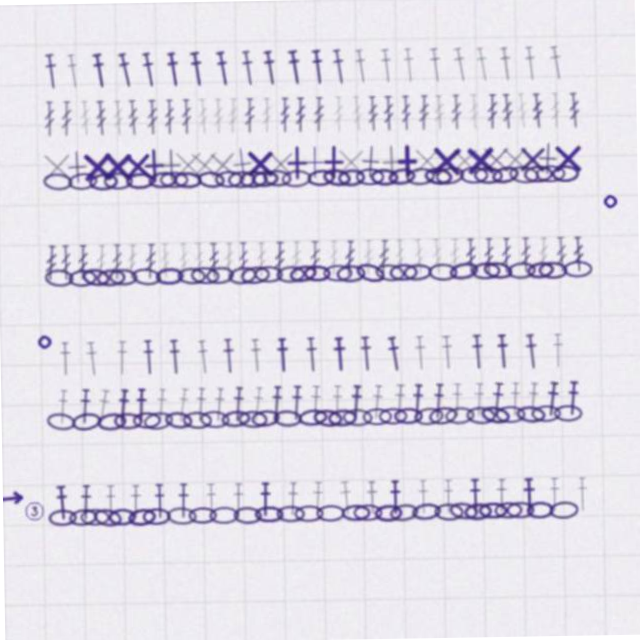chain: (355, 261, 387, 286), (478, 407, 509, 429), (89, 503, 120, 525), (493, 167, 523, 189), (437, 167, 468, 188), (449, 263, 480, 284), (483, 263, 514, 284), (44, 407, 75, 428), (69, 407, 100, 428), (426, 407, 457, 428), (445, 503, 476, 524), (324, 167, 354, 188), (82, 263, 112, 284), (289, 263, 319, 284), (511, 168, 542, 188), (228, 264, 259, 284), (375, 264, 406, 284), (141, 408, 172, 428), (132, 264, 162, 284), (241, 264, 271, 284), (95, 408, 125, 428), (162, 408, 192, 428), (311, 408, 341, 428), (412, 408, 442, 428), (514, 408, 544, 428), (386, 504, 416, 524), (163, 504, 194, 523), (199, 168, 228, 188), (390, 168, 419, 188), (426, 168, 455, 188), (527, 264, 556, 284), (124, 504, 153, 524), (45, 168, 75, 187), (70, 168, 100, 187), (150, 168, 180, 187), (45, 264, 75, 283), (191, 264, 221, 283), (198, 408, 228, 427), (219, 408, 249, 427), (249, 408, 279, 427), (296, 408, 326, 427), (65, 504, 95, 523), (408, 504, 438, 523), (265, 168, 294, 187), (206, 264, 235, 283), (241, 169, 271, 187), (284, 169, 314, 187), (408, 169, 438, 187), (109, 265, 139, 283), (236, 409, 266, 427), (271, 409, 301, 427), (341, 409, 371, 427), (443, 409, 473, 427), (464, 409, 494, 427), (91, 169, 120, 187), (128, 169, 157, 187), (175, 169, 204, 187), (253, 169, 282, 187), (309, 169, 338, 187), (372, 169, 401, 187), (476, 169, 505, 187), (69, 265, 98, 283), (97, 265, 126, 283), (178, 265, 207, 283), (277, 265, 306, 283), (337, 265, 366, 283), (404, 265, 433, 283), (429, 265, 458, 283), (508, 265, 537, 283), (539, 265, 568, 283), (112, 409, 141, 427), (181, 409, 210, 427), (326, 409, 355, 427), (230, 505, 259, 523), (431, 505, 460, 523), (460, 505, 489, 523), (546, 505, 575, 523), (538, 169, 568, 186), (494, 409, 524, 426), (206, 505, 236, 522), (230, 169, 258, 187), (340, 169, 368, 187), (371, 505, 399, 523), (106, 169, 135, 186), (162, 169, 191, 186), (217, 169, 246, 186), (358, 169, 387, 186), (462, 169, 491, 186), (526, 169, 555, 186), (255, 265, 284, 282), (324, 265, 353, 282), (390, 265, 419, 282), (472, 265, 501, 282), (564, 265, 593, 282), (361, 409, 390, 426), (377, 409, 406, 426), (392, 409, 421, 426), (530, 409, 559, 426), (552, 409, 581, 426), (45, 505, 74, 522), (77, 505, 106, 522), (139, 505, 168, 522), (185, 505, 214, 522), (251, 505, 280, 522), (273, 505, 302, 522), (291, 505, 320, 522), (313, 505, 342, 522), (338, 505, 367, 522), (350, 505, 379, 522), (475, 505, 504, 522), (554, 169, 582, 186), (156, 265, 184, 282), (304, 265, 332, 282), (131, 409, 159, 426), (105, 505, 133, 522), (491, 505, 519, 522), (503, 505, 531, 522), (523, 505, 551, 522)
half_double: (94, 49, 113, 85), (120, 49, 139, 85), (455, 49, 474, 85), (551, 49, 570, 85), (92, 385, 111, 421), (144, 49, 162, 85), (192, 49, 210, 85), (218, 49, 236, 85), (290, 49, 308, 85), (478, 49, 496, 85), (385, 337, 403, 373), (487, 385, 505, 421), (542, 385, 560, 421), (47, 49, 64, 85), (69, 49, 86, 85), (169, 49, 186, 85), (244, 49, 261, 85), (266, 49, 283, 85), (335, 49, 352, 85), (357, 49, 374, 85), (83, 337, 100, 373), (173, 385, 190, 421), (248, 385, 265, 421), (314, 49, 330, 85), (383, 49, 399, 85), (432, 49, 448, 85), (502, 49, 518, 85), (527, 49, 543, 85), (195, 337, 211, 373), (523, 337, 539, 373), (114, 385, 130, 421), (152, 385, 168, 421), (210, 385, 226, 421), (229, 385, 245, 421), (347, 385, 363, 421), (368, 385, 384, 421), (408, 385, 424, 421), (429, 385, 445, 421), (524, 385, 540, 421), (331, 337, 347, 372), (306, 385, 322, 420), (390, 385, 406, 420), (51, 481, 67, 516), (335, 481, 351, 516), (406, 49, 421, 84), (167, 337, 182, 372), (221, 337, 236, 372), (248, 337, 263, 372), (304, 337, 319, 372), (358, 337, 373, 372), (439, 337, 454, 372), (495, 337, 510, 372), (54, 385, 69, 420), (76, 385, 91, 420), (192, 385, 207, 420), (268, 385, 283, 420), (288, 385, 303, 420), (448, 385, 463, 420), (470, 385, 485, 420), (564, 385, 579, 420), (307, 481, 322, 516), (141, 337, 155, 372), (275, 337, 289, 372), (413, 337, 427, 372), (470, 337, 484, 372), (133, 385, 147, 420), (329, 385, 343, 420), (507, 385, 521, 420), (76, 481, 90, 516), (283, 481, 297, 516), (362, 481, 376, 516), (519, 481, 533, 516), (58, 337, 71, 372), (115, 337, 128, 372), (551, 337, 564, 372), (101, 481, 114, 516), (126, 481, 139, 516), (150, 481, 163, 516), (174, 481, 187, 516), (202, 481, 215, 516), (229, 481, 242, 516), (256, 481, 269, 516), (386, 481, 399, 516), (414, 481, 427, 516), (439, 481, 452, 516), (466, 481, 479, 516), (492, 481, 505, 516), (545, 481, 558, 516), (573, 481, 586, 516)
noise: (20, 495, 42, 517), (0, 486, 22, 500), (604, 198, 620, 214), (37, 330, 52, 345)
single: (226, 144, 264, 182), (355, 144, 392, 181), (532, 144, 569, 181), (62, 145, 98, 181), (82, 145, 118, 181), (102, 145, 138, 181), (122, 145, 158, 181), (139, 145, 175, 181), (189, 145, 225, 181), (207, 145, 243, 181), (265, 145, 301, 181), (376, 145, 412, 181), (431, 145, 467, 181), (449, 145, 485, 181), (465, 145, 501, 181), (517, 145, 553, 181), (42, 145, 77, 180), (156, 145, 191, 180), (173, 145, 208, 180), (245, 145, 280, 180), (282, 145, 317, 180), (300, 145, 335, 180), (319, 145, 354, 180), (336, 145, 371, 180), (392, 145, 427, 180), (412, 145, 447, 180), (481, 145, 516, 180), (500, 145, 535, 180), (553, 145, 588, 180)
treble: (354, 97, 368, 132), (504, 97, 518, 132), (519, 97, 533, 132), (534, 97, 548, 132), (571, 97, 585, 132), (45, 241, 59, 276), (95, 241, 109, 276), (126, 241, 140, 276), (378, 241, 392, 276), (413, 241, 427, 276), (82, 97, 95, 132), (98, 97, 111, 132), (115, 97, 128, 132), (130, 97, 143, 132), (200, 97, 213, 132), (230, 97, 243, 132), (316, 97, 329, 132), (370, 97, 383, 132), (421, 97, 434, 132), (436, 97, 449, 132), (471, 97, 484, 132), (145, 241, 158, 276), (160, 241, 173, 276), (223, 241, 236, 276), (274, 241, 287, 276), (291, 241, 304, 276), (344, 241, 357, 276), (363, 241, 376, 276), (432, 241, 445, 276), (449, 241, 462, 276), (538, 241, 551, 276), (556, 241, 569, 276), (573, 241, 586, 276), (47, 97, 59, 132), (64, 97, 76, 132), (150, 97, 162, 132), (167, 97, 179, 132), (184, 97, 196, 132), (216, 97, 228, 132), (247, 97, 259, 132), (264, 97, 276, 132), (298, 97, 310, 132), (336, 97, 348, 132), (386, 97, 398, 132), (454, 97, 466, 132), (490, 97, 502, 132), (553, 97, 565, 132), (61, 241, 73, 276), (78, 241, 90, 276), (112, 241, 124, 276), (179, 241, 191, 276), (194, 241, 206, 276), (209, 241, 221, 276), (310, 241, 322, 276), (329, 241, 341, 276), (395, 241, 407, 276), (466, 241, 478, 276), (484, 241, 496, 276), (521, 241, 533, 276), (283, 97, 294, 132), (404, 97, 415, 132), (239, 241, 250, 276), (257, 241, 268, 276), (502, 241, 513, 276)
